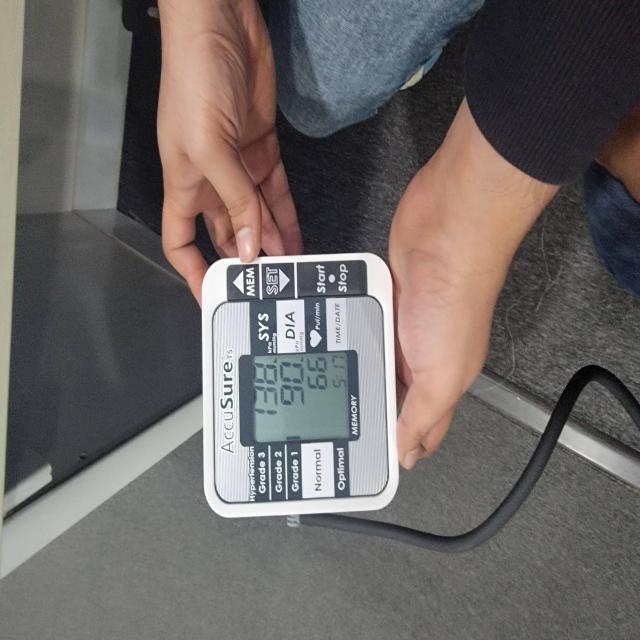bp: (201, 255, 401, 521)
